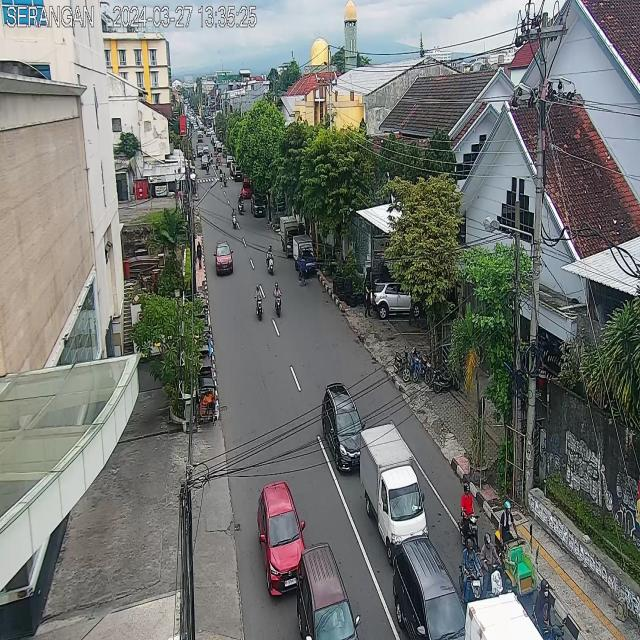car: (392, 535, 468, 640), (297, 542, 359, 640), (257, 481, 307, 598), (322, 381, 366, 476), (214, 241, 233, 276), (250, 194, 266, 218), (241, 182, 252, 199)
motorcycle: (531, 578, 565, 640), (476, 533, 503, 598), (459, 538, 482, 606), (459, 482, 479, 554), (253, 283, 266, 322), (273, 282, 283, 320), (266, 243, 274, 277), (230, 206, 238, 230), (238, 195, 242, 215), (240, 192, 244, 212)
truck: (360, 423, 429, 561), (293, 235, 316, 276), (280, 216, 299, 258)
